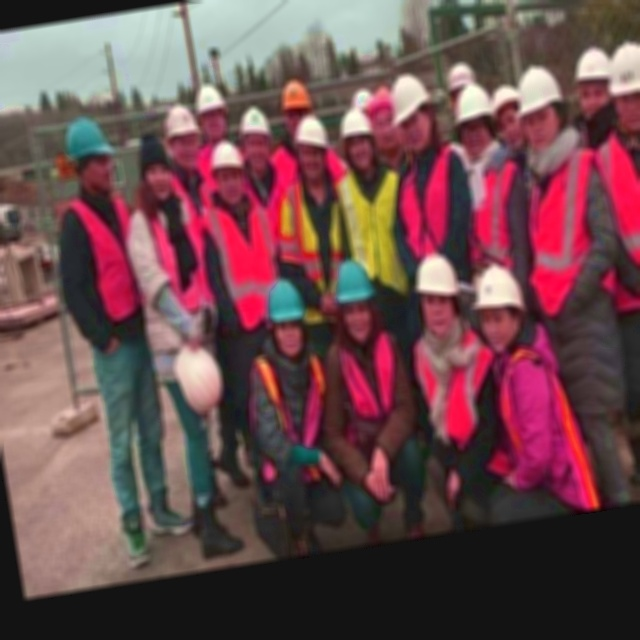Con_Casco: (292, 112, 335, 185), (209, 139, 250, 208)
Con_Chaleco: (519, 148, 617, 308), (63, 189, 148, 346), (337, 164, 413, 282), (596, 132, 640, 323)
Sin_Casco_Mascarrilla: (136, 131, 176, 200)
